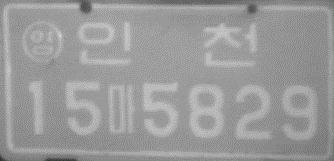1: (18, 78, 56, 135)
2: (235, 83, 272, 141)
5: (63, 81, 101, 136), (142, 81, 180, 136)
8: (186, 82, 224, 139)
9: (281, 84, 319, 142)
마: (105, 82, 137, 137)
영: (21, 19, 63, 64)
인천_D: (76, 21, 258, 70)
